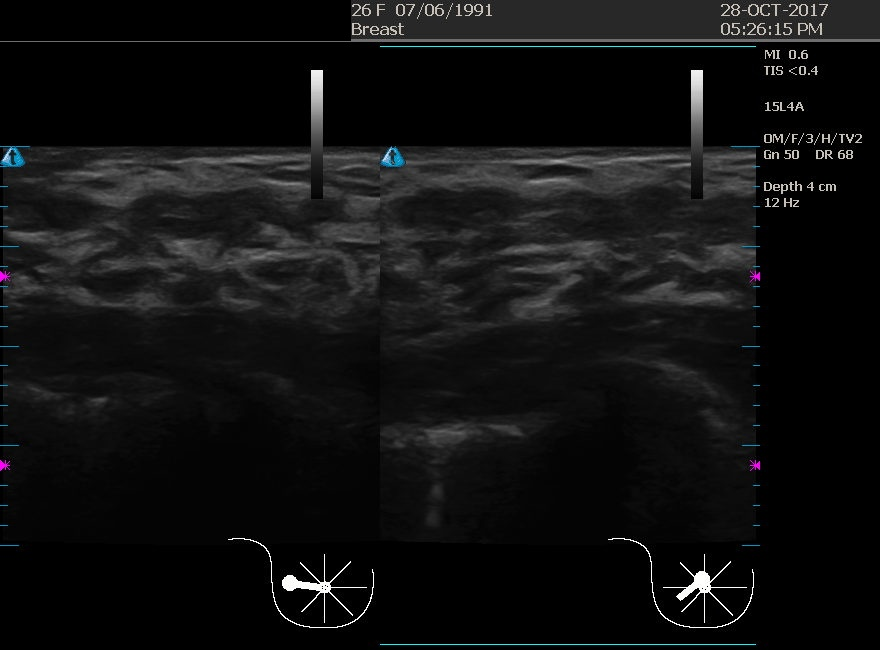BIRADS_4: (99, 158, 299, 358), (490, 148, 690, 348)
